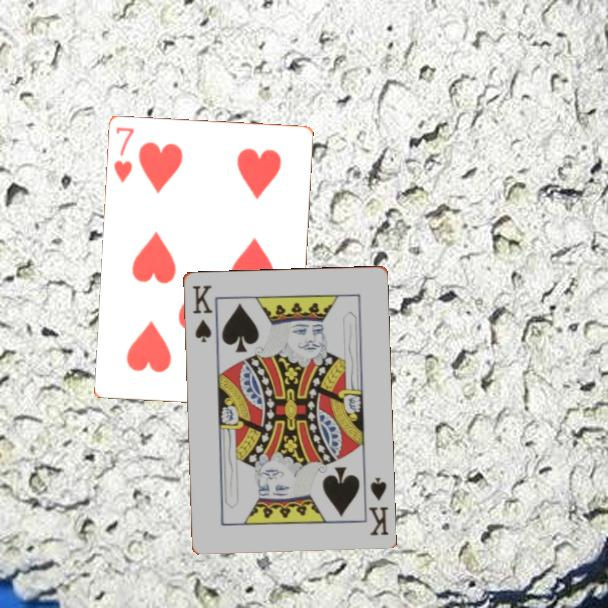h07: (111, 124, 138, 186)
s13: (188, 281, 215, 345), (365, 473, 391, 538)
